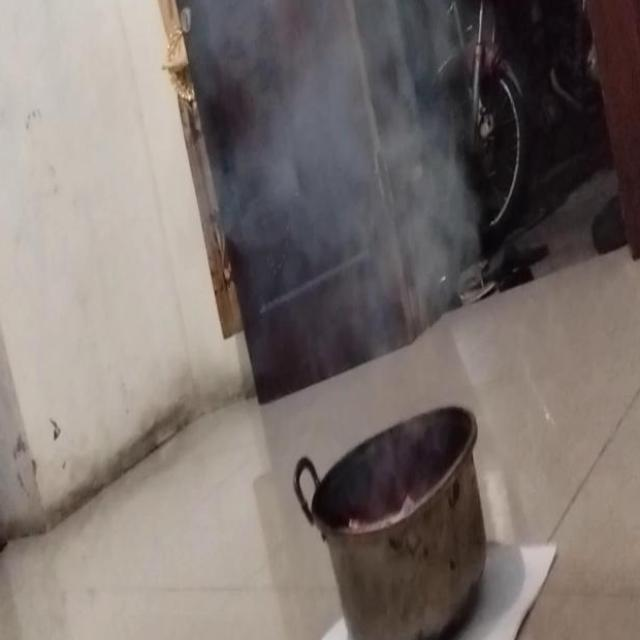fire: (202, 0, 463, 354)
